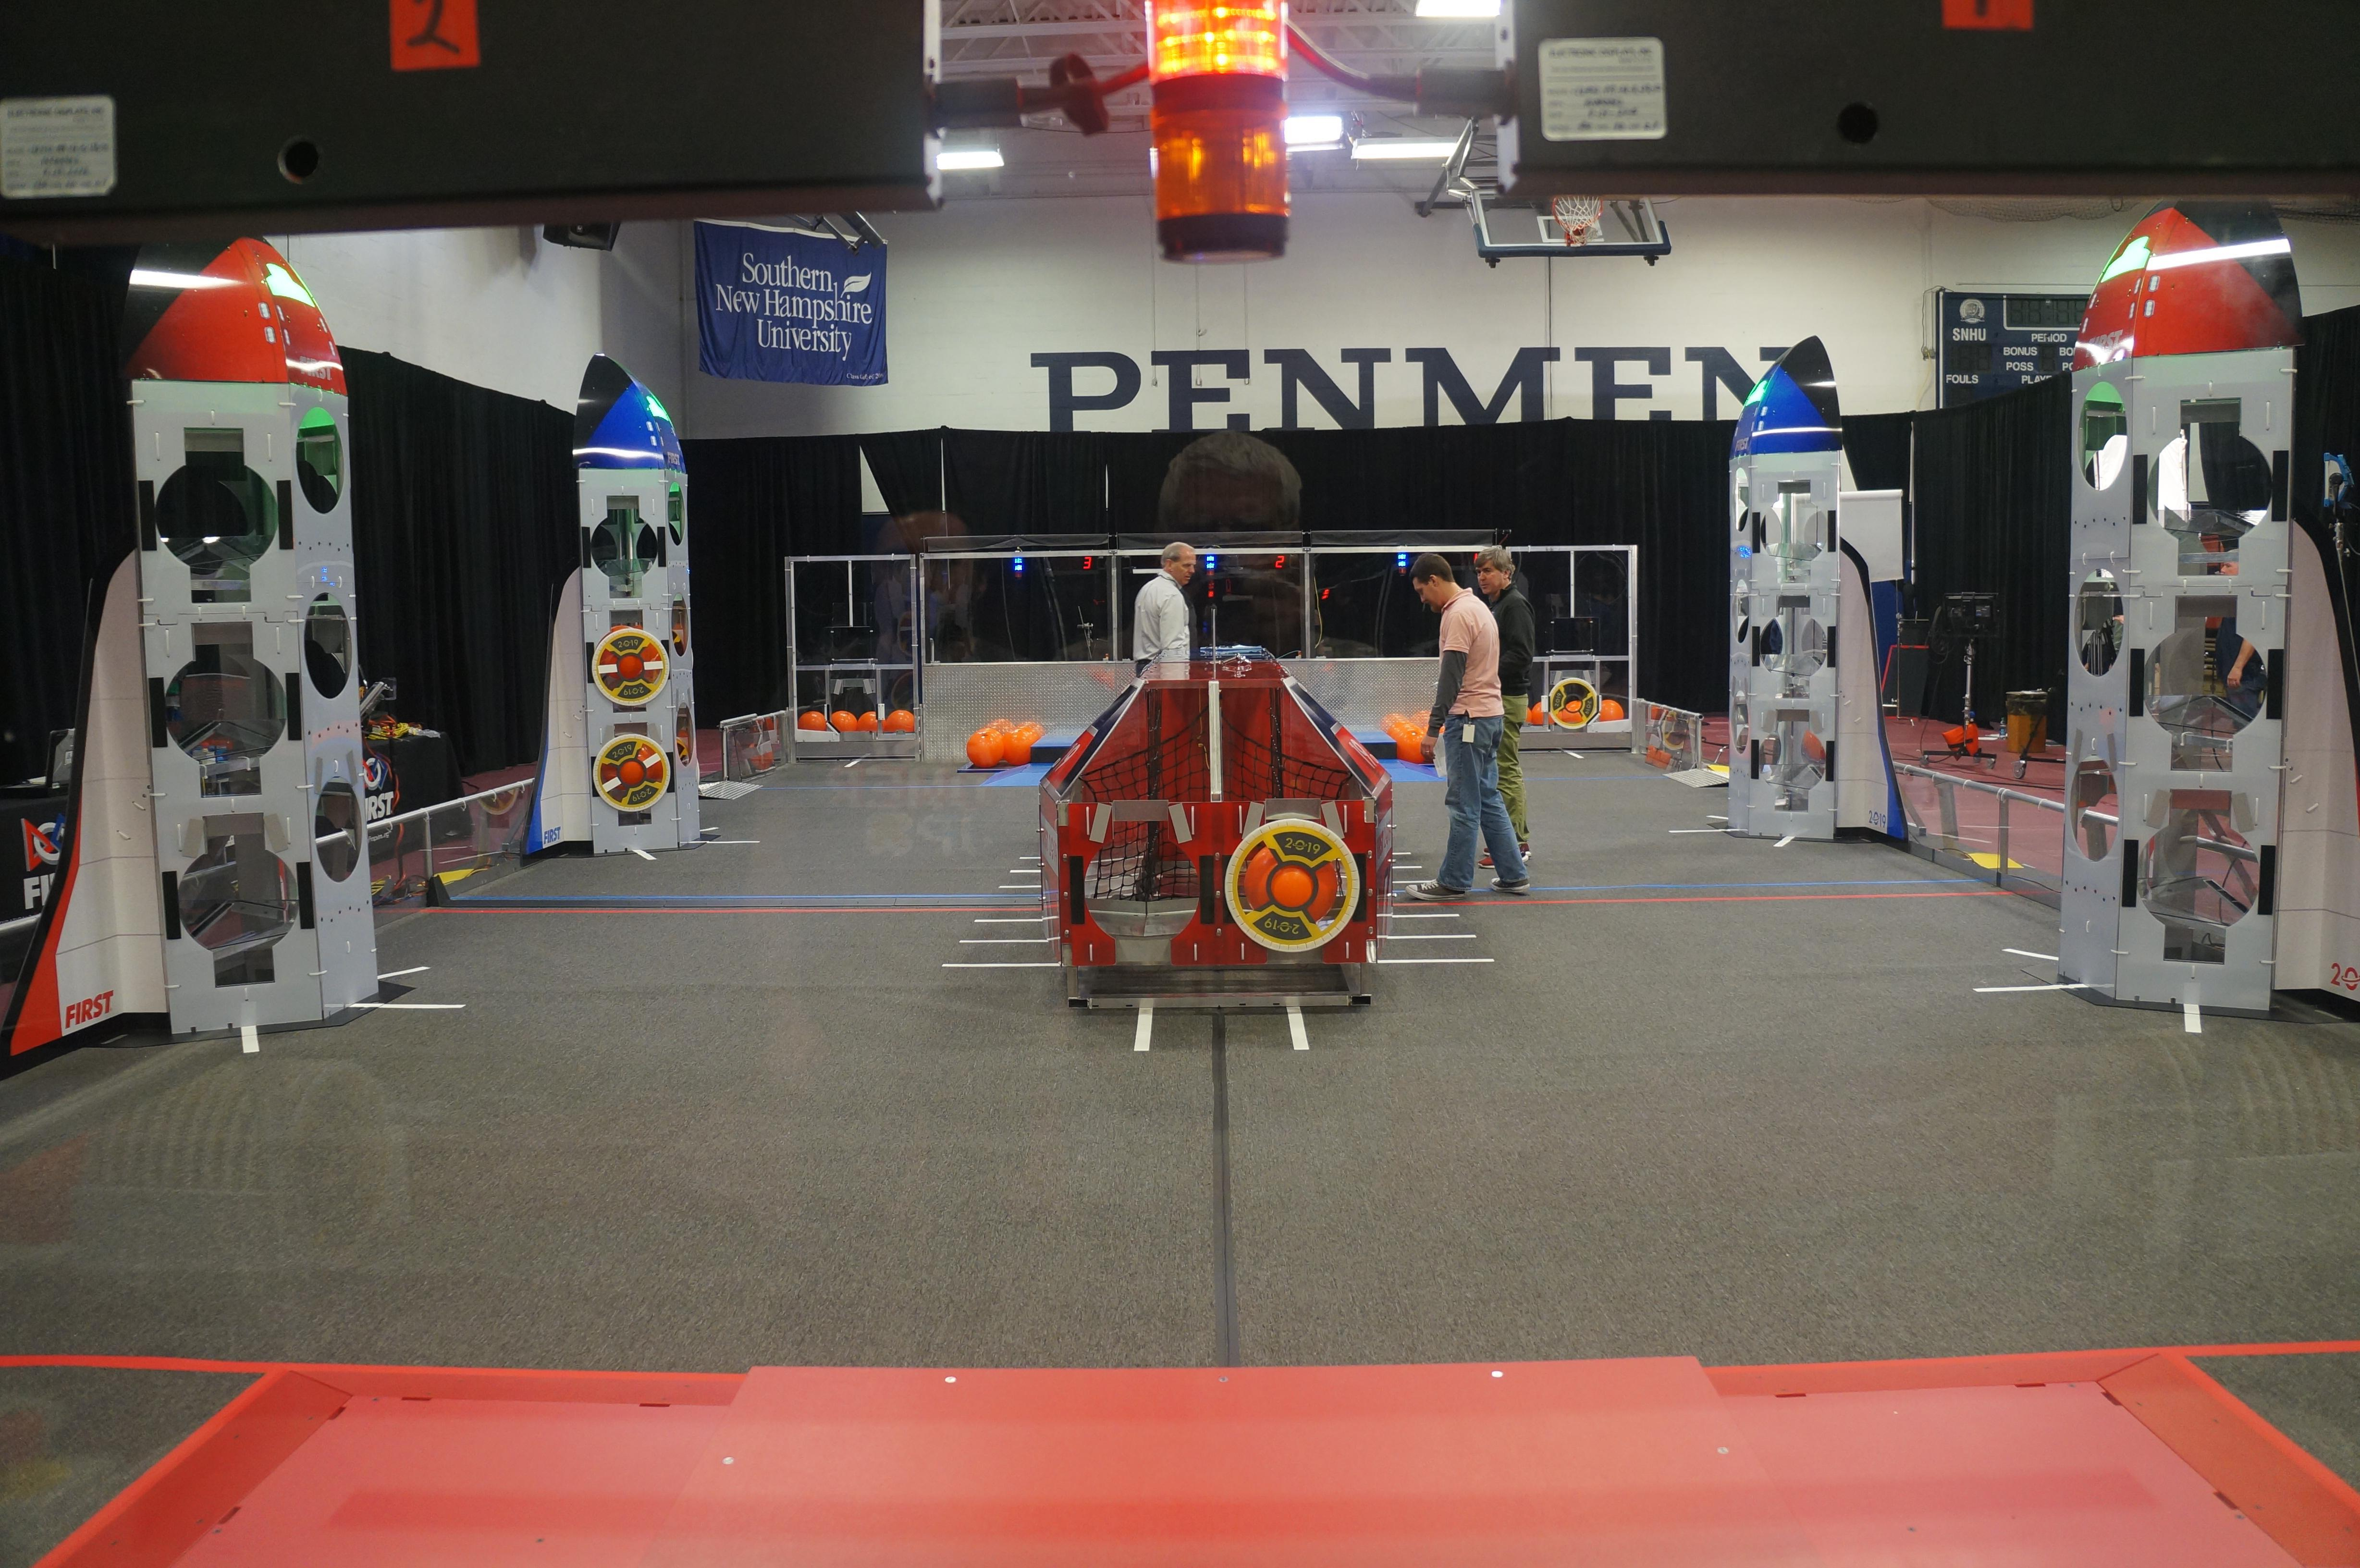Ball: (1242, 845, 1344, 929), (962, 726, 1004, 772), (1393, 717, 1429, 766), (1001, 724, 1036, 768)
Hatch: (1225, 817, 1361, 957), (591, 728, 670, 817), (591, 628, 670, 709)
